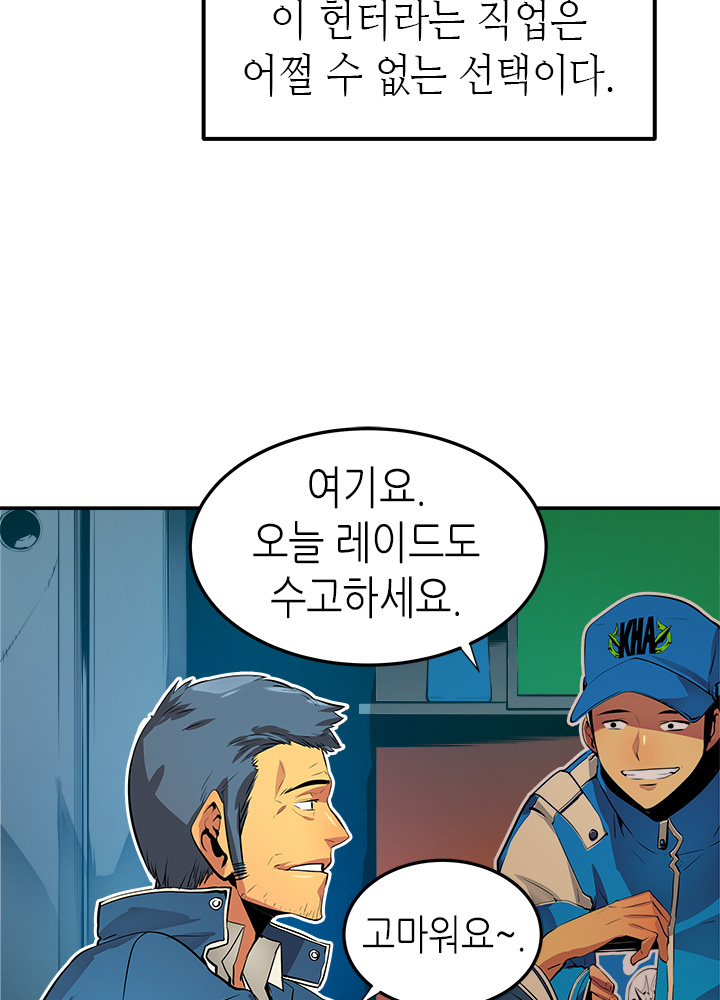dialog box: (154, 387, 591, 694), (156, 1, 693, 178), (313, 839, 587, 1000)
text: (227, 434, 516, 660), (226, 1, 634, 128), (353, 899, 537, 968)
